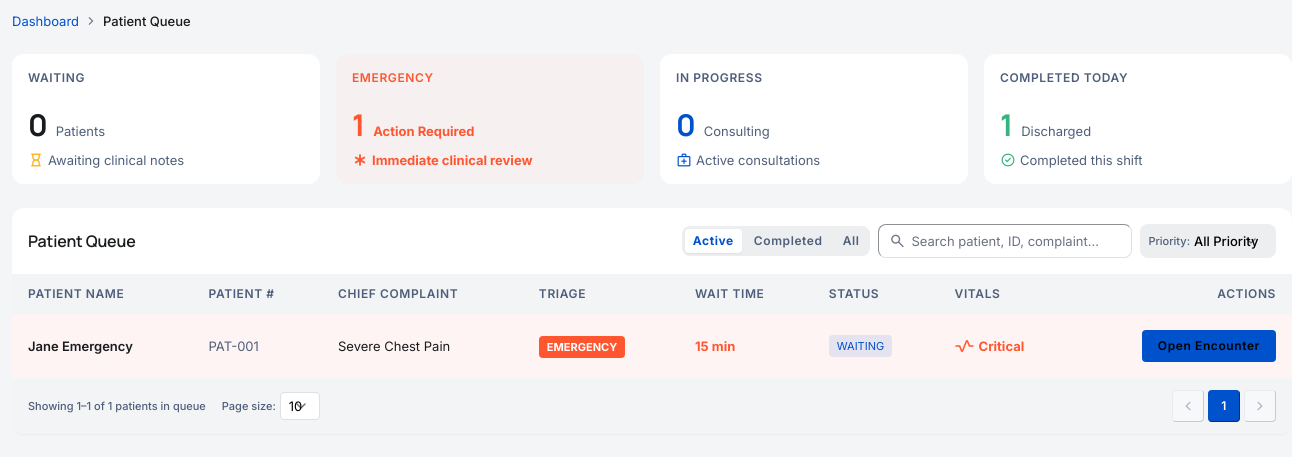
Test: ConsultationQueuePage › filters queue by search query
Check: the text "Jane Emergency" is shown, box [12,314,192,378]
Type "Jane" into the field with placeholder "Search patient, ID, complaint..." at {"x": 1005, "y": 241}, box [878,224,1132,258]
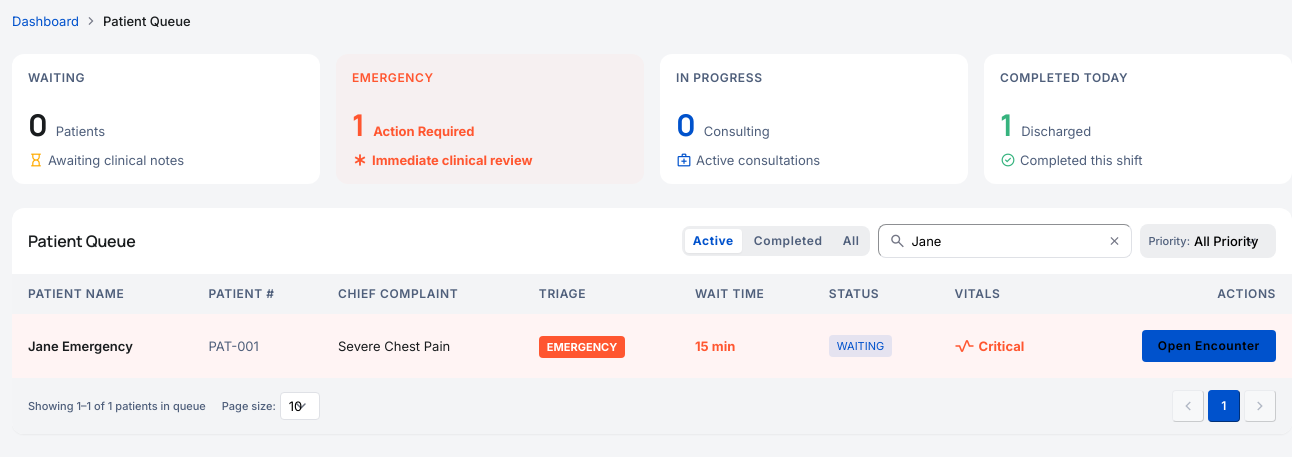
Check: the text "Jane Emergency" is shown, box [12,314,192,378]
Replace the text in the field with "Nonexistent" at {"x": 1005, "y": 241}, box [878,224,1132,258]
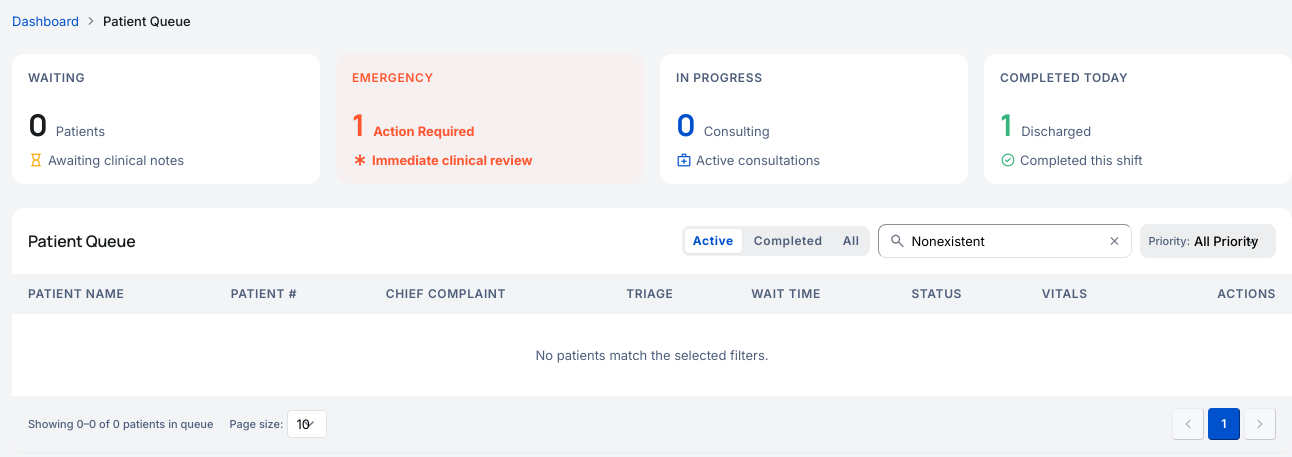
Check: the text "Jane Emergency" is gone
